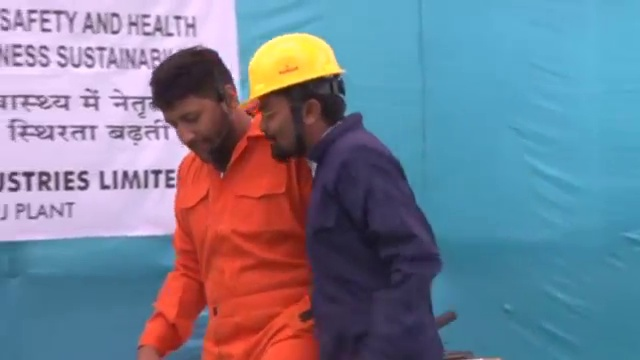helmet: (241, 31, 348, 107)
helmet_off: (149, 45, 243, 168)
helmet_on: (241, 31, 351, 164)
person: (240, 30, 455, 360), (138, 45, 320, 360)
